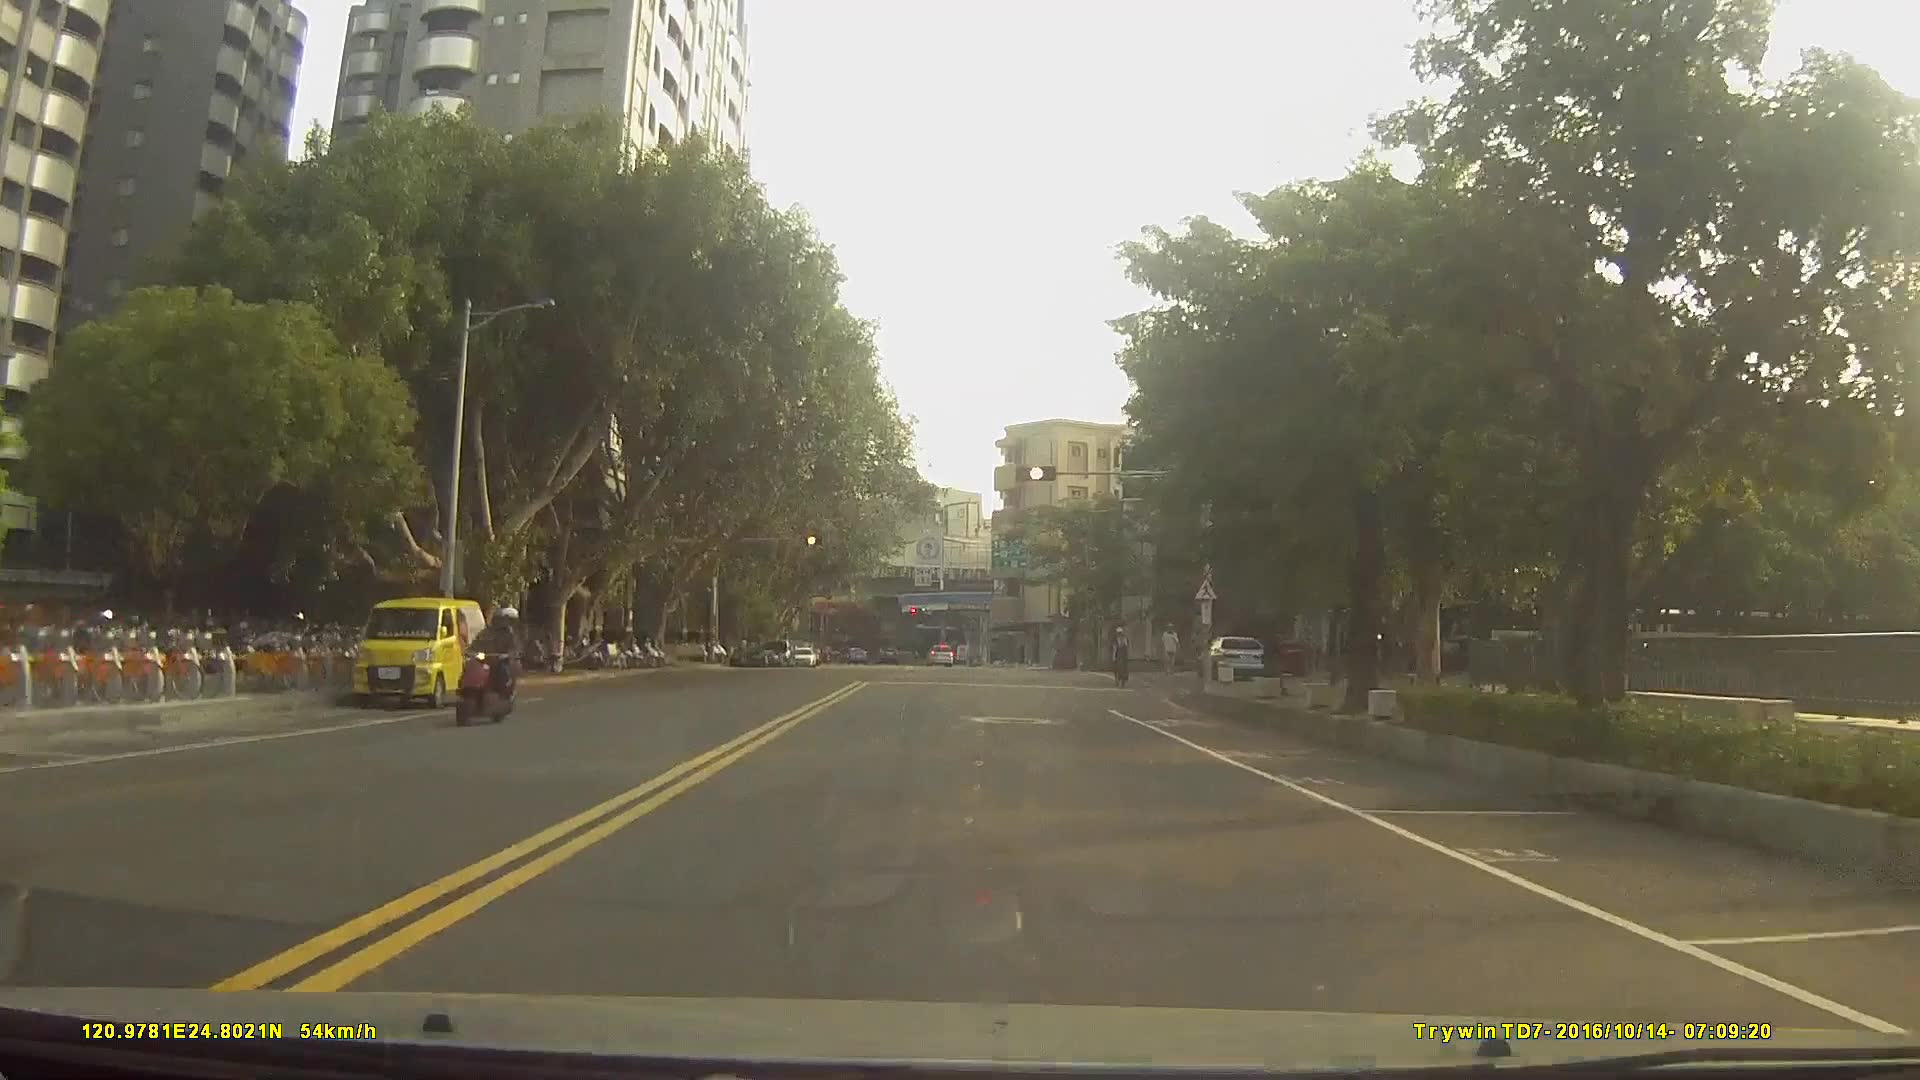pedestrian: (1162, 618, 1182, 678)
rider: (458, 603, 525, 726), (1111, 619, 1135, 679)
vehicle: (1195, 635, 1267, 680), (788, 643, 818, 665), (929, 644, 954, 667)
